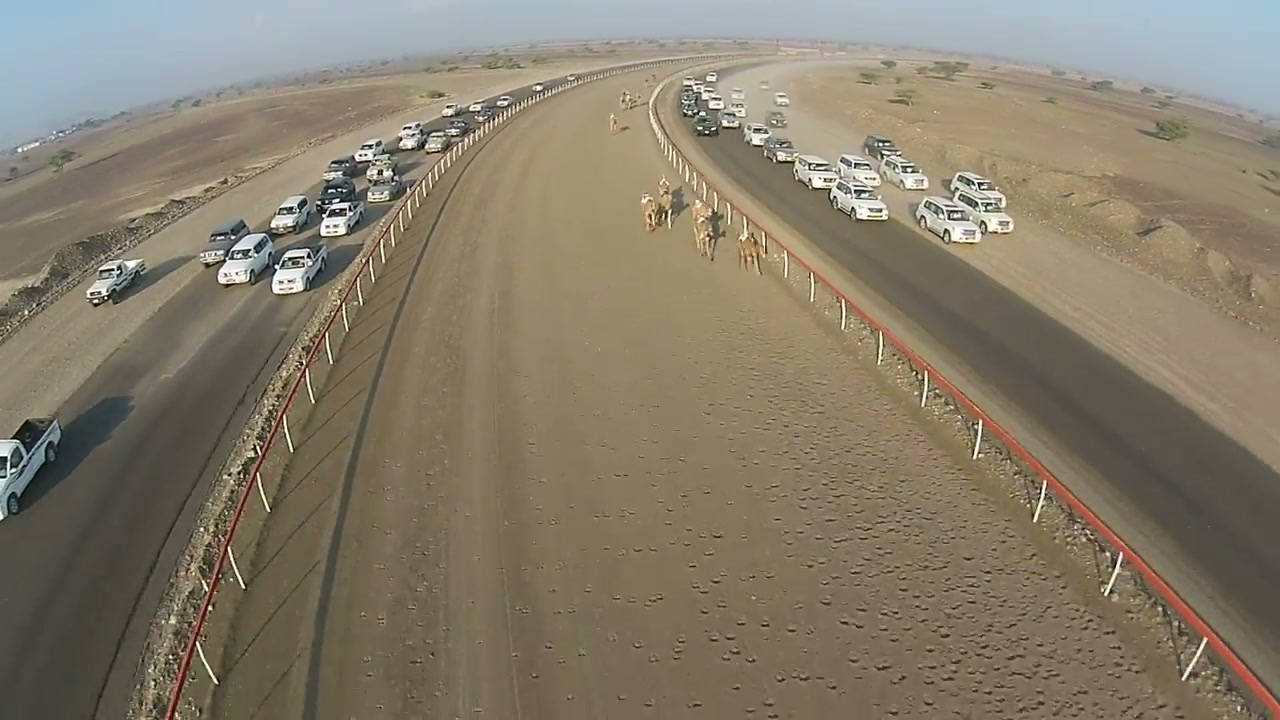animal_footprint: (728, 358, 1160, 709)
